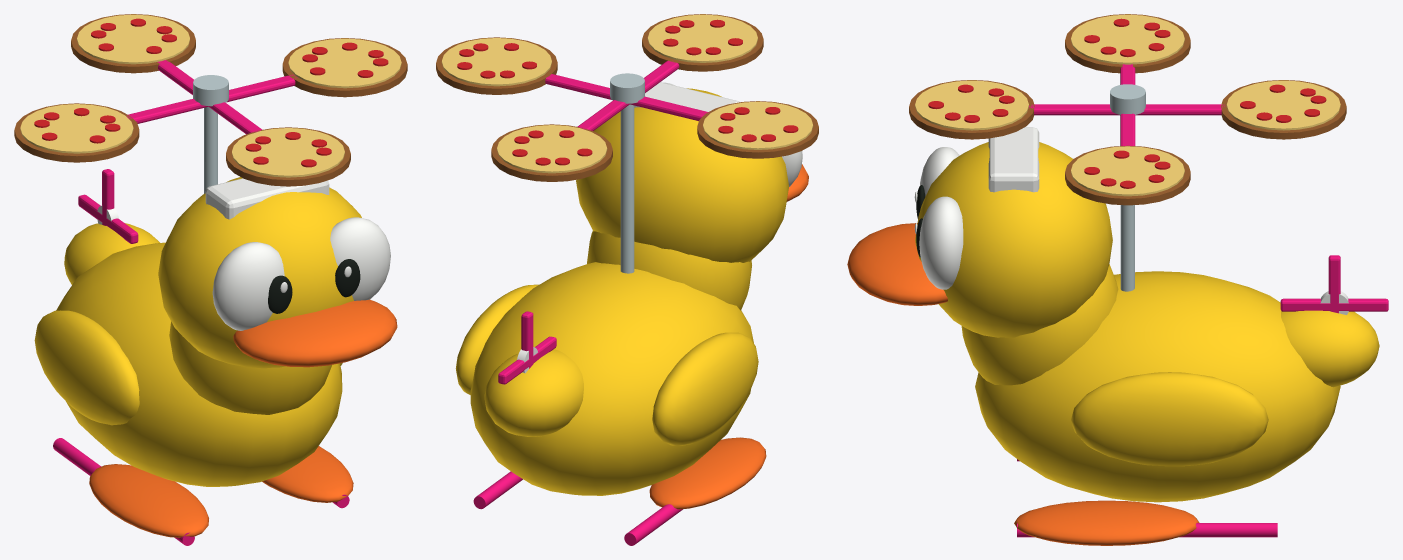
File: ems-helicopterduck.glb
3 views of the same model, side by side, from view 1: azimuth 30°, elevation 25°; view 2: azimuth 150°, elevation 25°; view 3: azimuth 270°, elevation 25° (orthographic). The views are drawn at different scales.
Visible parts, largest first — view 1: Emergency_Quack_Response__Rubber duck / banana yellow, Emergency_Quack_Response__Beak orange, MainRotor__Pizza cheese, Emergency_Quack_Response__Eyeball white, MainRotor__Pizza crust / banana stem, MainRotor__Red cross and pepperoni, MainRotor__Ridiculous hot pink, Emergency_Quack_Response__Pupils and tyre rubber, TailRotor__Ridiculous hot pink, Emergency_Quack_Response__Chrome, Emergency_Quack_Response__Ridiculous hot pink, MainRotor__Chrome; view 2: Emergency_Quack_Response__Rubber duck / banana yellow, MainRotor__Pizza cheese, MainRotor__Pizza crust / banana stem, Emergency_Quack_Response__Beak orange, MainRotor__Red cross and pepperoni, MainRotor__Ridiculous hot pink, Emergency_Quack_Response__Chrome, Emergency_Quack_Response__Eyeball white, Emergency_Quack_Response__Ridiculous hot pink, TailRotor__Ridiculous hot pink, MainRotor__Chrome; view 3: Emergency_Quack_Response__Rubber duck / banana yellow, MainRotor__Pizza cheese, Emergency_Quack_Response__Beak orange, Emergency_Quack_Response__Eyeball white, MainRotor__Pizza crust / banana stem, MainRotor__Red cross and pepperoni, MainRotor__Ridiculous hot pink, TailRotor__Ridiculous hot pink, Emergency_Quack_Response__Ridiculous hot pink, Emergency_Quack_Response__Chrome, MainRotor__Chrome.
Boxes of the visible parts, x1=… form: Emergency_Quack_Response__Rubber duck / banana yellow: x1=34, y1=177, x2=361, y2=486; Emergency_Quack_Response__Beak orange: x1=89, y1=299, x2=397, y2=537; MainRotor__Pizza cheese: x1=20, y1=14, x2=401, y2=177; Emergency_Quack_Response__Eyeball white: x1=205, y1=178, x2=390, y2=330; MainRotor__Pizza crust / banana stem: x1=14, y1=14, x2=407, y2=186; MainRotor__Red cross and pepperoni: x1=34, y1=18, x2=388, y2=167; MainRotor__Ridiculous hot pink: x1=127, y1=60, x2=297, y2=134; Emergency_Quack_Response__Pupils and tyre rubber: x1=268, y1=259, x2=360, y2=313; TailRotor__Ridiculous hot pink: x1=78, y1=169, x2=138, y2=243; Emergency_Quack_Response__Chrome: x1=204, y1=107, x2=217, y2=193; Emergency_Quack_Response__Ridiculous hot pink: x1=53, y1=438, x2=349, y2=545; MainRotor__Chrome: x1=193, y1=75, x2=228, y2=106; Emergency_Quack_Response__Rubber duck / banana yellow: x1=455, y1=88, x2=788, y2=495; MainRotor__Pizza cheese: x1=441, y1=14, x2=813, y2=173; MainRotor__Pizza crust / banana stem: x1=436, y1=14, x2=818, y2=181; Emergency_Quack_Response__Beak orange: x1=649, y1=164, x2=808, y2=509; MainRotor__Red cross and pepperoni: x1=457, y1=19, x2=798, y2=165; MainRotor__Ridiculous hot pink: x1=545, y1=60, x2=709, y2=130; Emergency_Quack_Response__Chrome: x1=620, y1=104, x2=634, y2=273; Emergency_Quack_Response__Eyeball white: x1=634, y1=82, x2=802, y2=186; Emergency_Quack_Response__Ridiculous hot pink: x1=473, y1=471, x2=683, y2=545; TailRotor__Ridiculous hot pink: x1=498, y1=311, x2=556, y2=384; MainRotor__Chrome: x1=610, y1=73, x2=644, y2=103; Emergency_Quack_Response__Rubber duck / banana yellow: x1=915, y1=142, x2=1379, y2=502; MainRotor__Pizza cheese: x1=915, y1=14, x2=1340, y2=196; Emergency_Quack_Response__Beak orange: x1=847, y1=223, x2=1199, y2=545; Emergency_Quack_Response__Eyeball white: x1=914, y1=127, x2=1039, y2=289; MainRotor__Pizza crust / banana stem: x1=909, y1=14, x2=1346, y2=205; MainRotor__Red cross and pepperoni: x1=928, y1=18, x2=1326, y2=188; MainRotor__Ridiculous hot pink: x1=1028, y1=64, x2=1224, y2=146; TailRotor__Ridiculous hot pink: x1=1280, y1=255, x2=1388, y2=313; Emergency_Quack_Response__Ridiculous hot pink: x1=1017, y1=459, x2=1277, y2=537; Emergency_Quack_Response__Chrome: x1=1120, y1=205, x2=1134, y2=291; MainRotor__Chrome: x1=1110, y1=84, x2=1145, y2=114.
Bounding box in the file's own units: 7.3 × 7.52 × 9.03.
